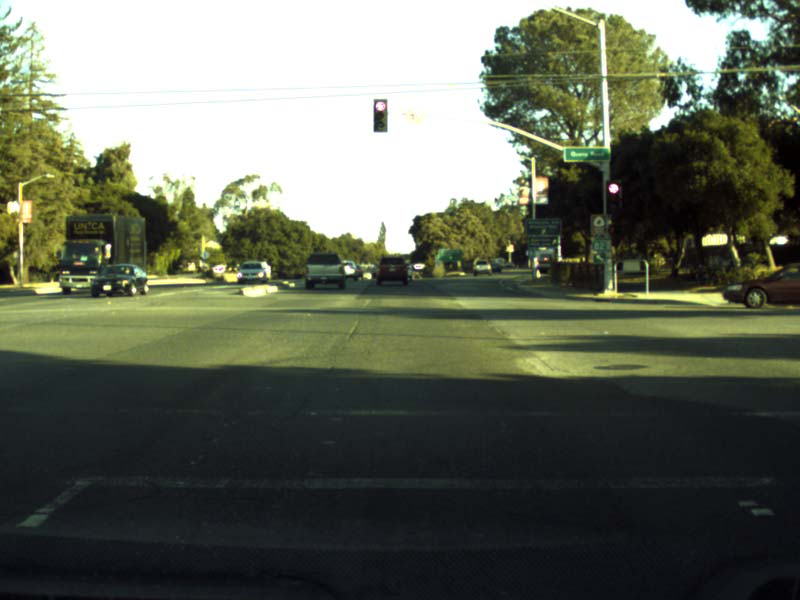Red: (605, 180, 620, 210), (373, 99, 386, 132)
